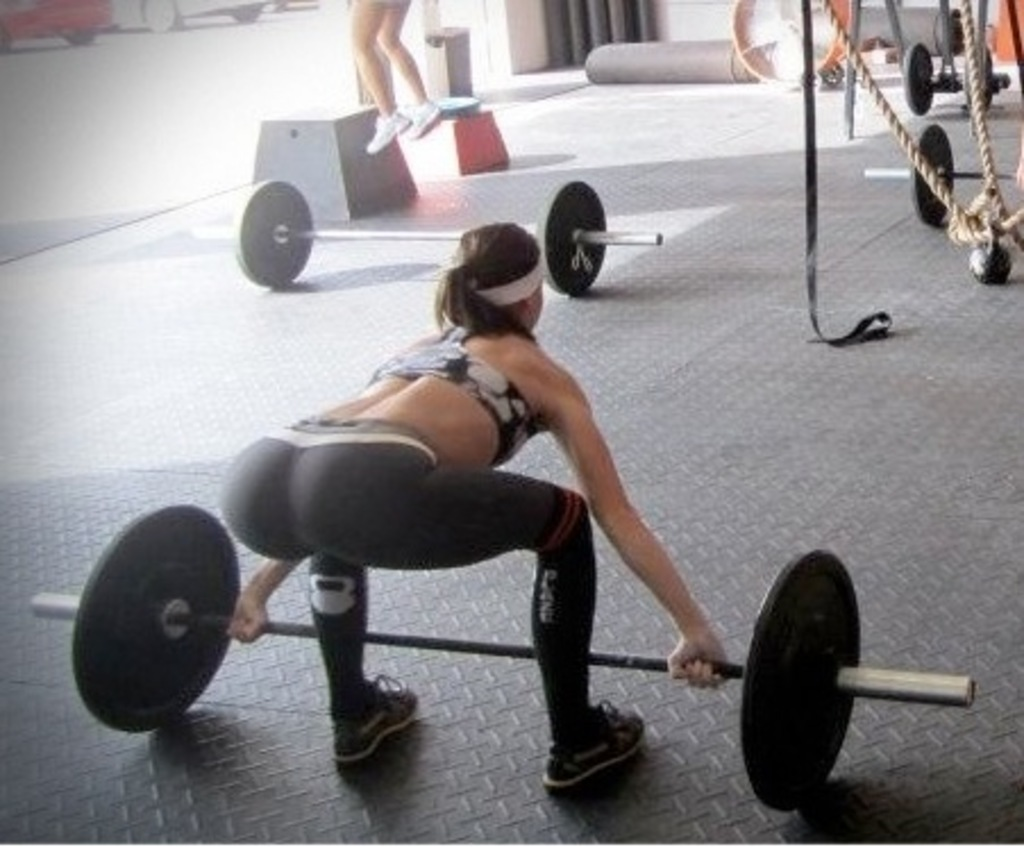Person: (218, 221, 728, 786), (350, 0, 439, 154)
